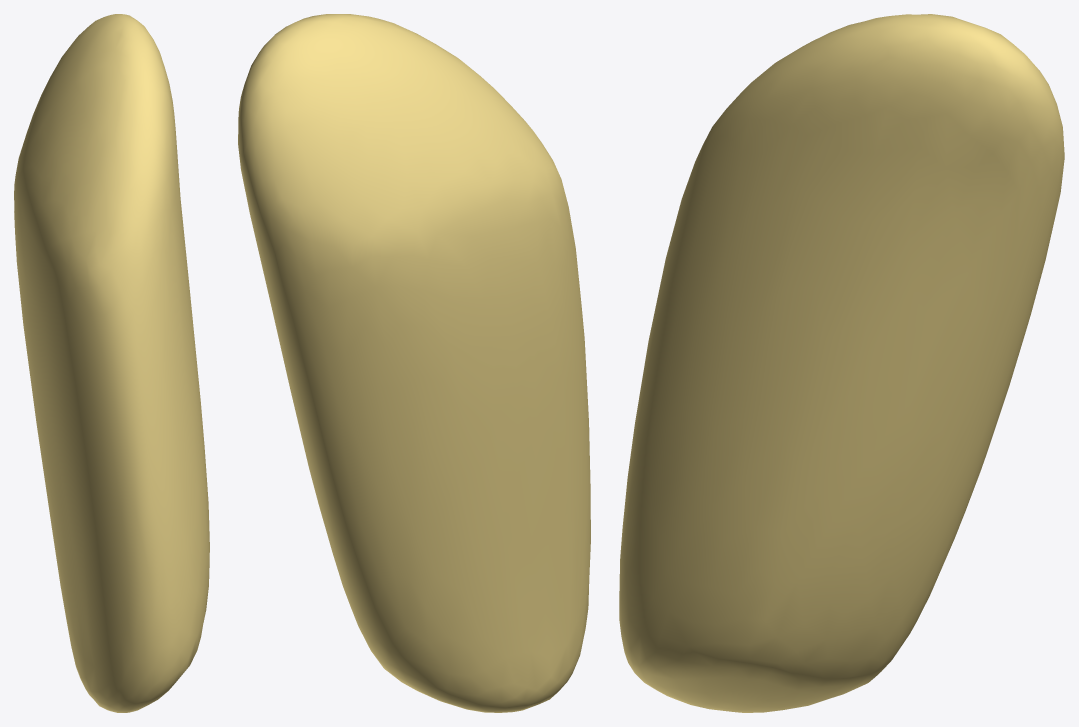
The model's file is fma73326_fj7495.glb.
3 renders of one model, left to right at view 1: azimuth 30°, elevation 25°; view 2: azimuth 150°, elevation 25°; view 3: azimuth 270°, elevation 25°, orthographic. The views are drawn at different scales.
Visible parts, largest first — view 1: FMA73326_FJ7495; view 2: FMA73326_FJ7495; view 3: FMA73326_FJ7495.
Part boxes in pixels (bbox=[...]): FMA73326_FJ7495: bbox=[14, 14, 209, 712]; FMA73326_FJ7495: bbox=[238, 14, 590, 712]; FMA73326_FJ7495: bbox=[619, 14, 1064, 712].
Bounding box in the file's own units: 0.00233 × 0.00804 × 0.00433.
